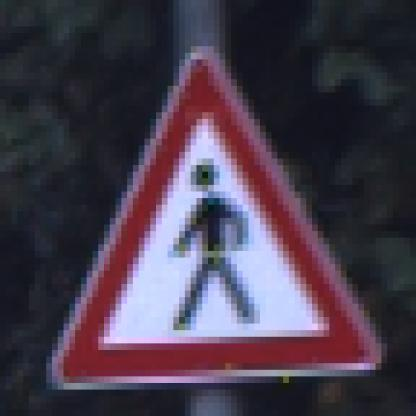crosswalk: (33, 46, 387, 390)
